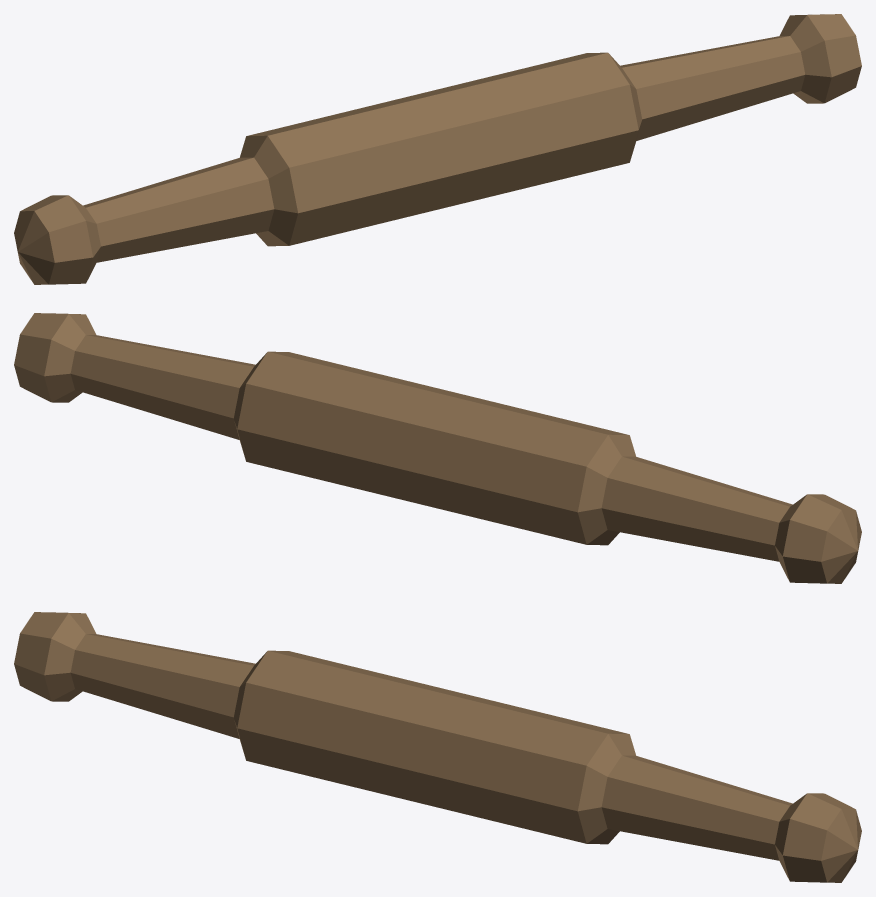
Rendered from rpgpp_ag_roller_01.fbx.
3 renders of one model, top to bottom at view 1: azimuth 30°, elevation 25°; view 2: azimuth 150°, elevation 25°; view 3: azimuth 330°, elevation 25°, orthographic.
Parts seen in each view (by area): view 1: rpgpp_ag_roller_01; view 2: rpgpp_ag_roller_01; view 3: rpgpp_ag_roller_01.
Part boxes in pixels (x1,y1,x2,y2): rpgpp_ag_roller_01: [14, 14, 861, 284]; rpgpp_ag_roller_01: [14, 313, 861, 583]; rpgpp_ag_roller_01: [14, 612, 861, 882].
Bounding box in the file's own units: 0.5727 × 0.072 × 0.072.
